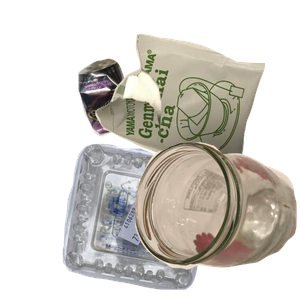glass: (132, 139, 300, 300)
metal: (75, 56, 198, 185)
plastic: (60, 141, 263, 300)
trash: (93, 31, 300, 205)
